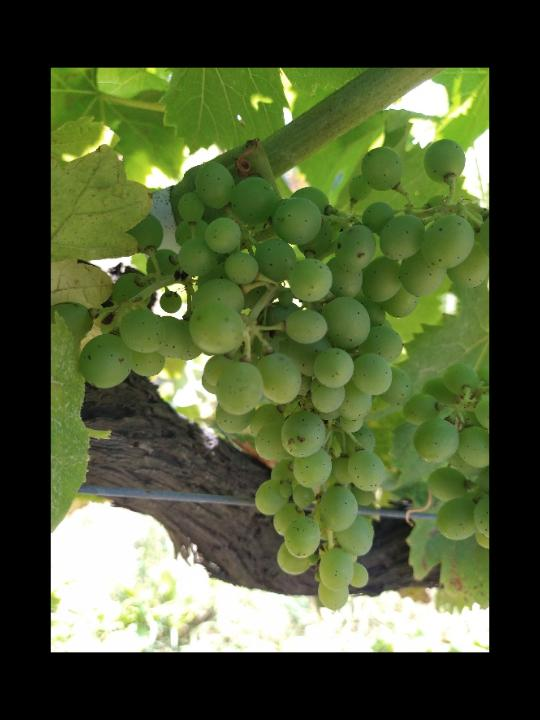grape: (56, 139, 487, 611)
